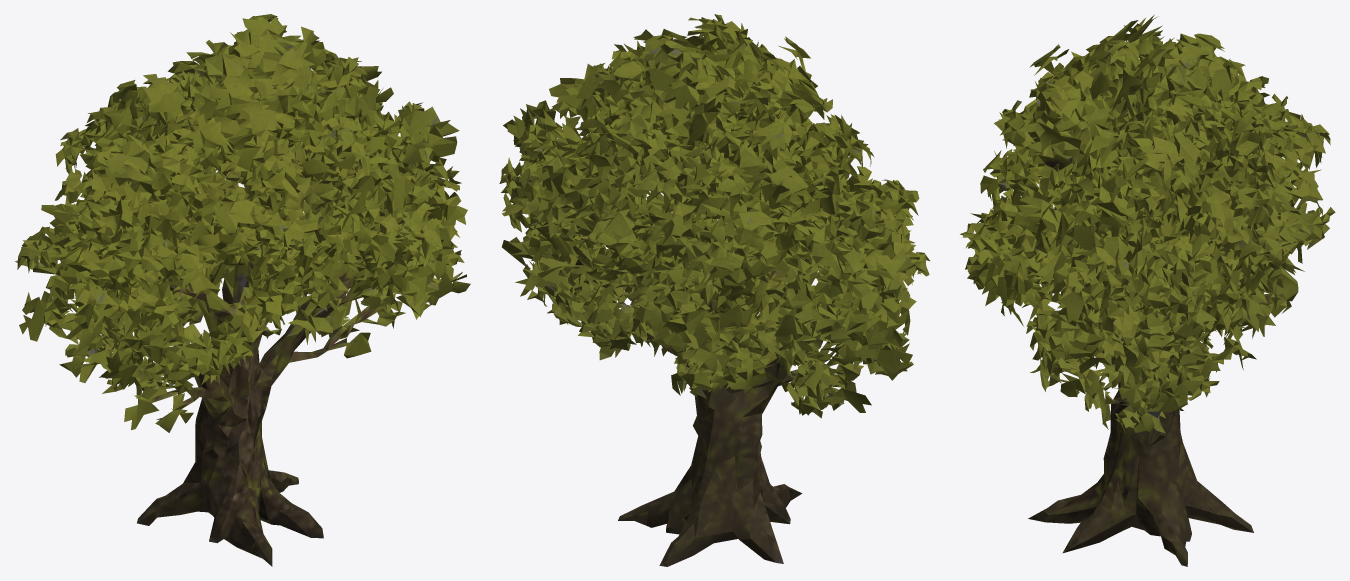
File: tree-v2.glb
The picture shows the model from 3 angles, left to right: view 1: azimuth 30°, elevation 25°; view 2: azimuth 150°, elevation 25°; view 3: azimuth 270°, elevation 25°; orthographic projection. The views are drawn at different scales.
Bounding box in the file's own units: 1.74 × 1.89 × 1.27.
1 material, 1 textured.
